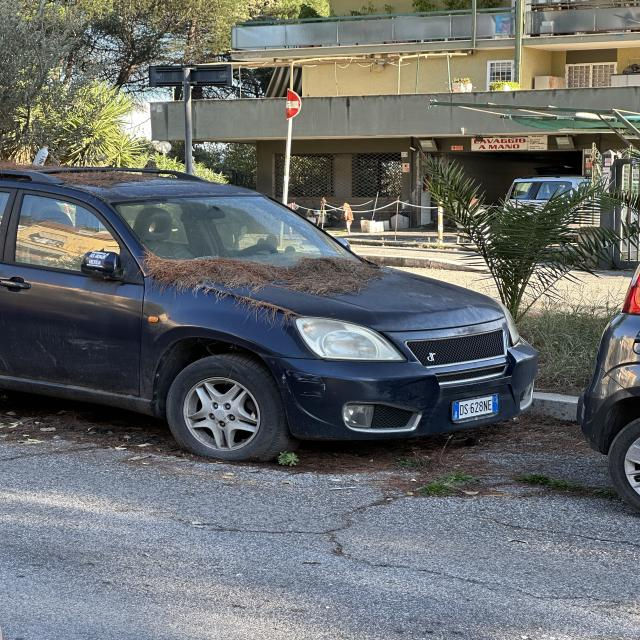number_plate: (452, 394, 498, 421)
